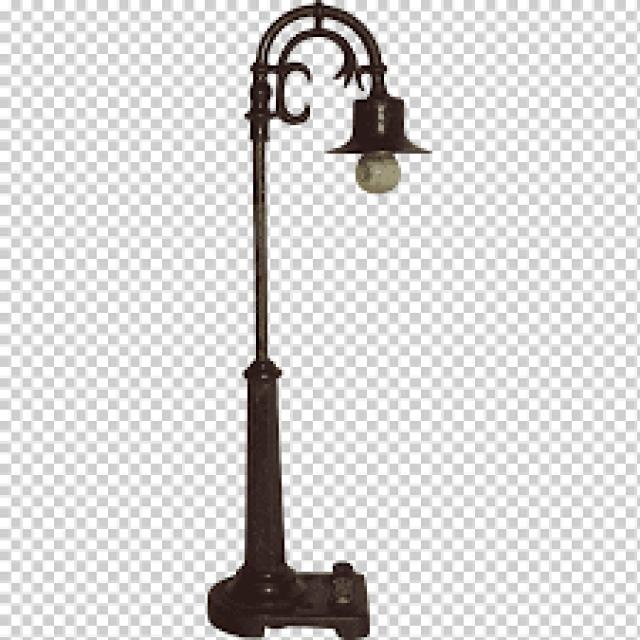Street Light: (208, 3, 432, 640)
